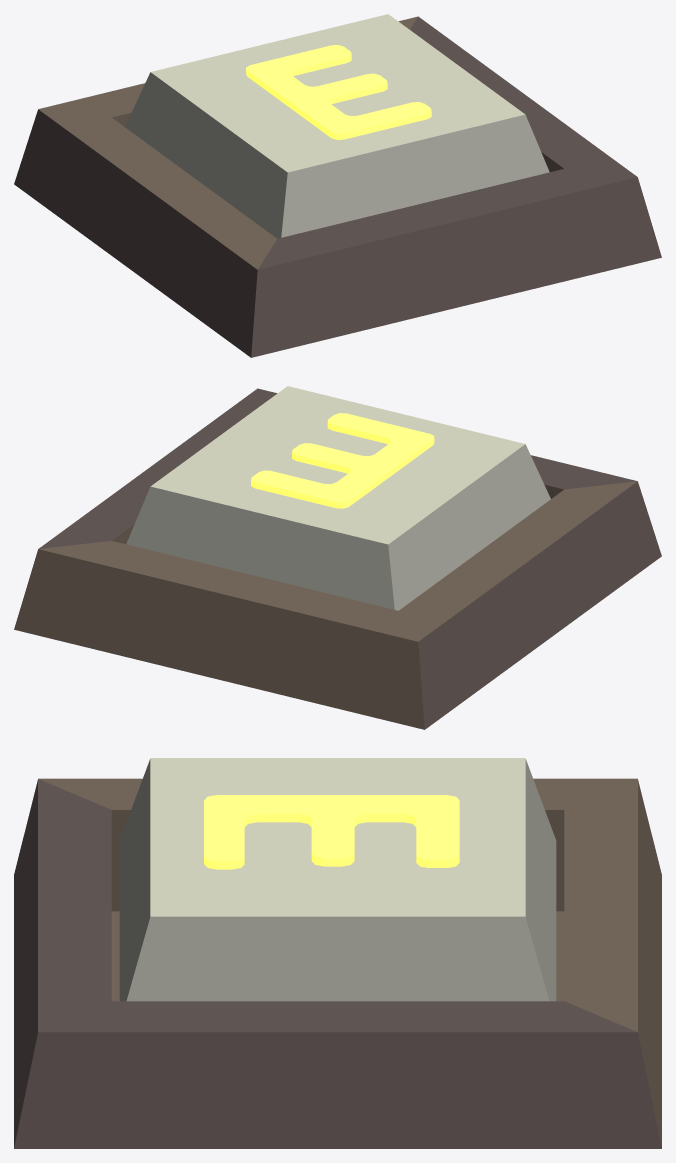
Rendered from TOMBOL.fbx.
The picture shows the model from 3 angles, top to bottom: view 1: azimuth 30°, elevation 25°; view 2: azimuth 150°, elevation 25°; view 3: azimuth 270°, elevation 25°; orthographic projection. The views are drawn at different scales.
Visible parts, largest first — view 1: Cube.001, Cube; view 2: Cube.001, Cube; view 3: Cube.001, Cube.
Boxes of the visible parts, x1,y1,x2,y2 form: Cube.001: (14, 16, 661, 357); Cube: (125, 14, 549, 238); Cube.001: (14, 388, 661, 729); Cube: (126, 386, 550, 610); Cube.001: (14, 778, 661, 1148); Cube: (119, 758, 556, 1001).
Bounding box in the file's own units: 345 × 108 × 345.
